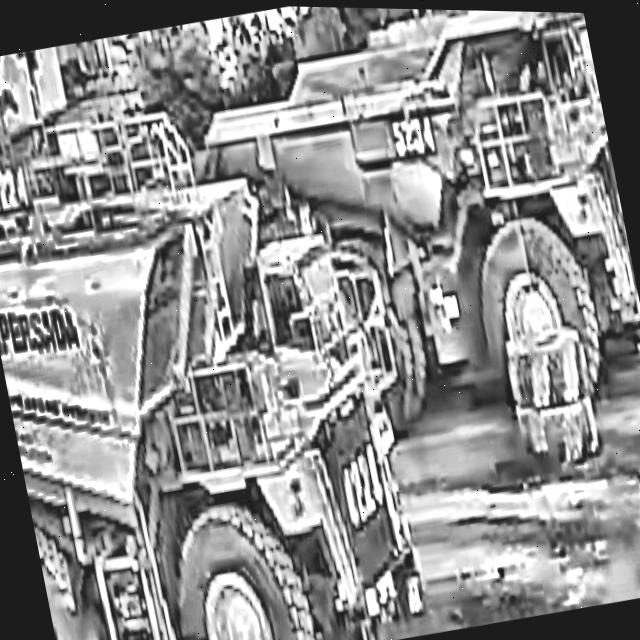dump_truck: (0, 89, 439, 640)
